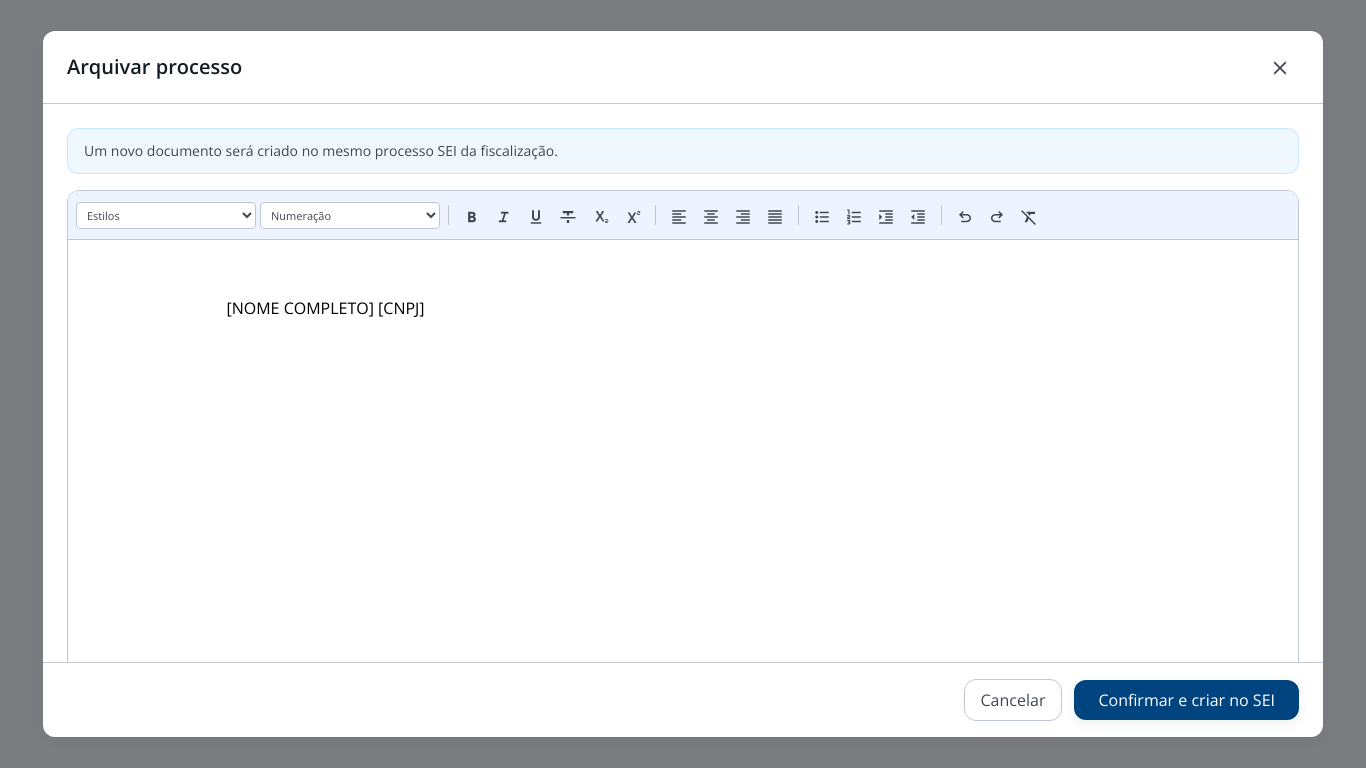
Test case: DespachoModal - tratamento de erros da API SEI › mostra aviso de instabilidade temporária e mantém o botão Confirmar habilitado
Expected: the text box named "Editor do documento" is shown, [68,240,1298,662]
Click the button "Confirmar e criar no SEI" at (1187, 700), box [1074,680,1299,720]
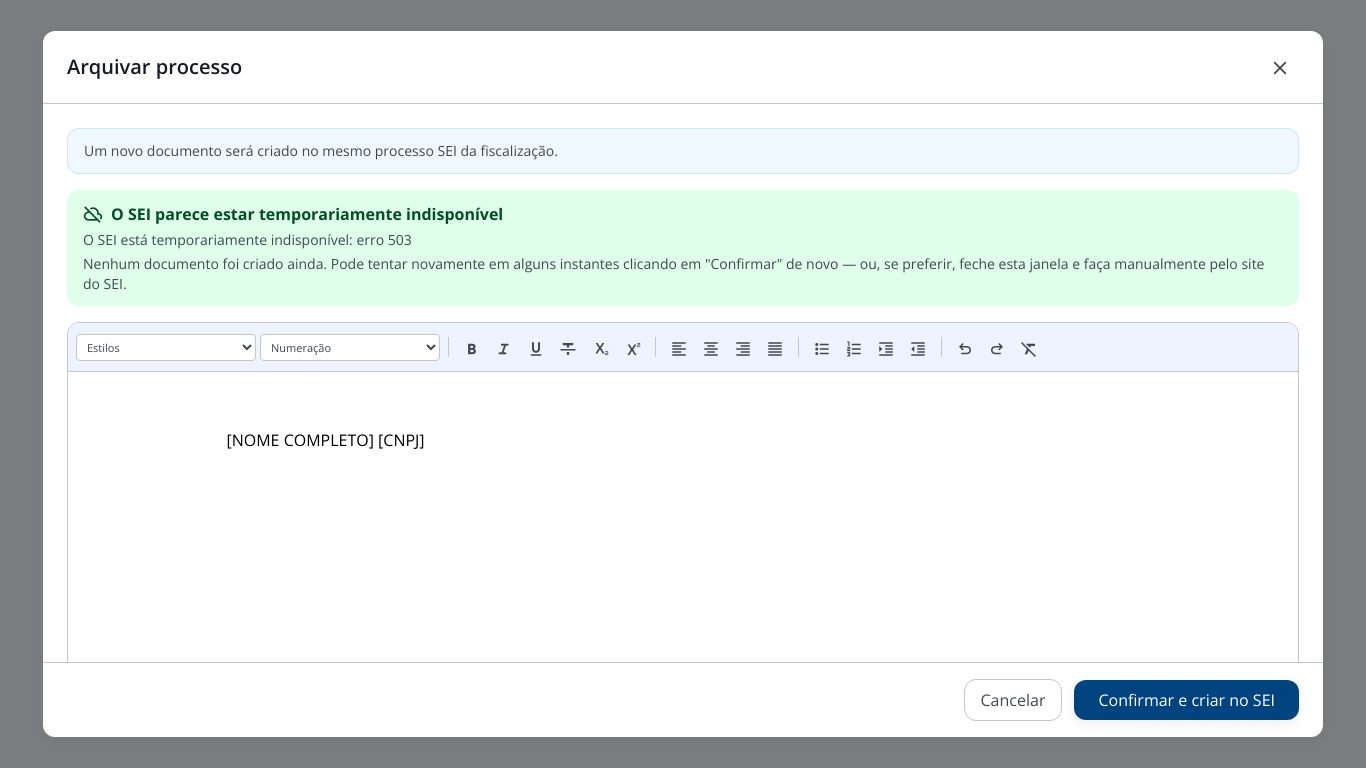
Expected: the text "O SEI parece estar temporariamente indisponível" is shown, [83,202,503,226]
